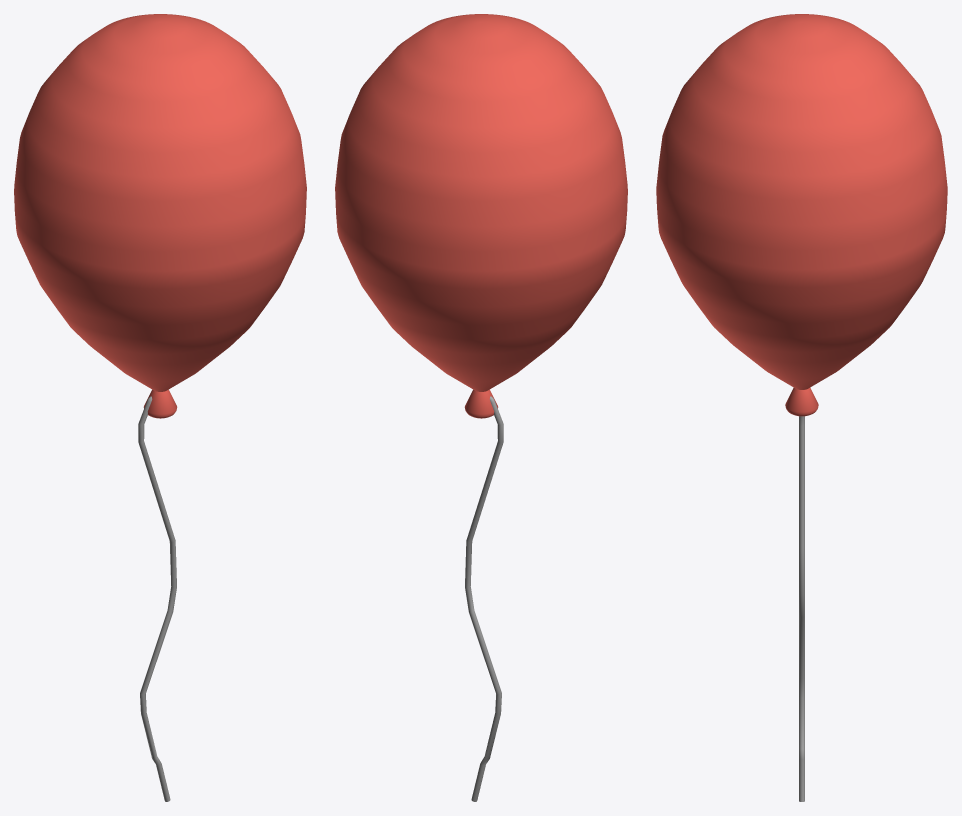
File: ballon.gltf
3 renders of one model, left to right at view 1: azimuth 30°, elevation 25°; view 2: azimuth 150°, elevation 25°; view 3: azimuth 270°, elevation 25°, orthographic.
Visible parts, largest first — view 1: Ballon; view 2: Ballon; view 3: Ballon.
Boxes of the visible parts, box(x1,y1,x2,y2) form: Ballon: box(14, 14, 306, 801); Ballon: box(335, 14, 627, 801); Ballon: box(656, 14, 947, 801).
Size of the model in its own units: 1.21 by 3.54 by 1.21.
